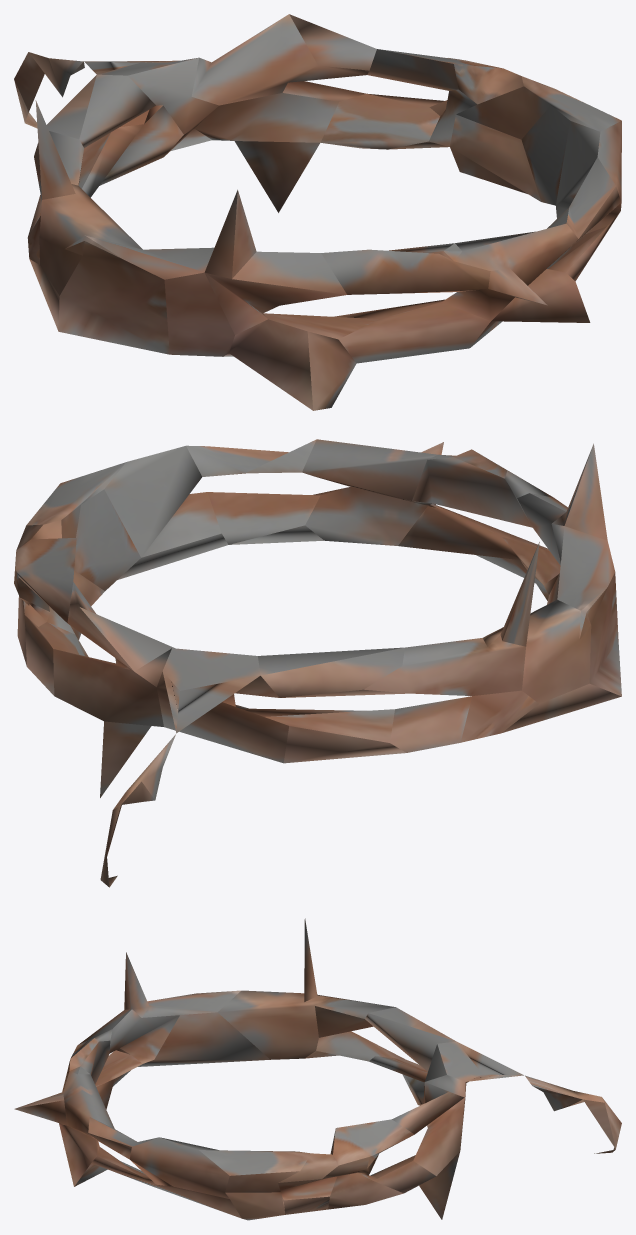
File: Palisade_lod.glb
The picture shows the model from 3 angles, top to bottom: view 1: azimuth 30°, elevation 25°; view 2: azimuth 150°, elevation 25°; view 3: azimuth 270°, elevation 25°; orthographic projection. The views are drawn at different scales.
Visible parts, largest first — view 1: Palisade; view 2: Palisade; view 3: Palisade.
Part boxes in pixels (<box>): Palisade: <box>14,14,621,410</box>; Palisade: <box>14,439,621,887</box>; Palisade: <box>14,918,621,1220</box>.
Bounding box in the file's own units: 0.7338 × 0.3353 × 0.9843.
1 material, 1 textured.
